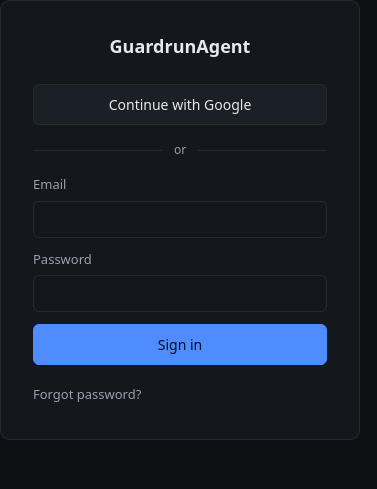
Test case: Google OAuth › shows an error if the OAuth redirect itself fails to start
What coordinates should you click on to do the following:
click the button "Continue with Google"
I would click on:
 (180, 104)
Its box is [33,84,327,125].
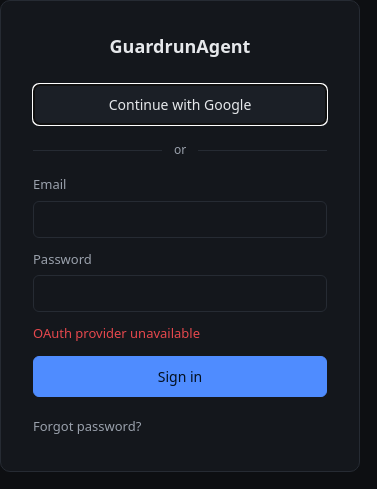
Result: the text "OAuth provider unavailable" is shown at [33,324,200,342]
